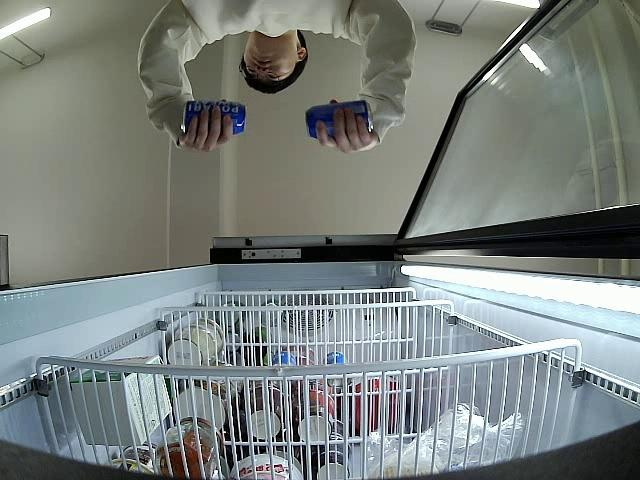00_hand: (315, 107, 378, 155), (179, 106, 237, 155)
13_pocariSweat: (306, 100, 377, 143), (179, 96, 246, 137)
